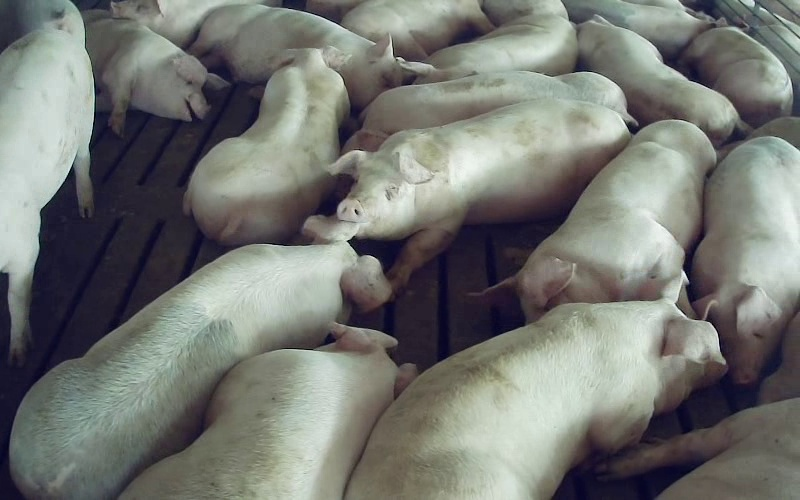pig: (10, 216, 390, 497), (345, 300, 725, 499), (120, 323, 416, 499), (484, 120, 715, 321), (184, 47, 349, 245), (0, 28, 93, 364), (691, 137, 799, 385), (342, 71, 634, 151), (189, 4, 411, 109), (578, 16, 741, 145), (596, 398, 799, 499), (82, 10, 227, 136), (401, 14, 577, 83), (681, 27, 792, 126), (341, 0, 493, 60), (563, 0, 713, 58), (111, 0, 274, 47)
